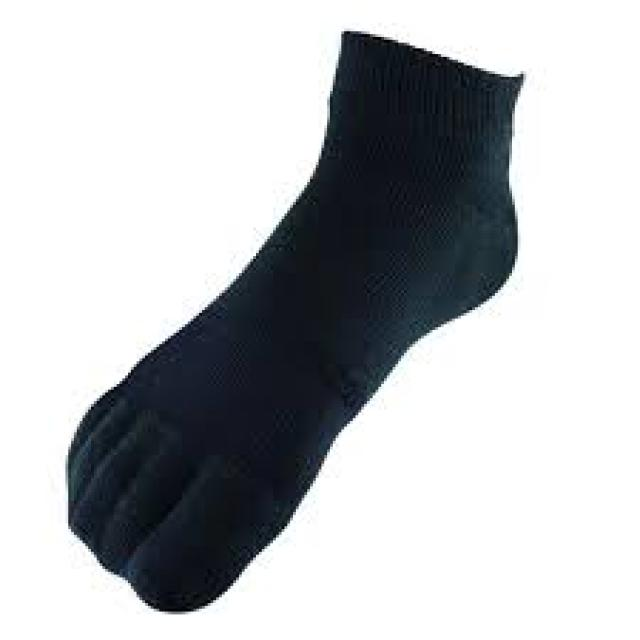sock: (66, 26, 524, 612)
